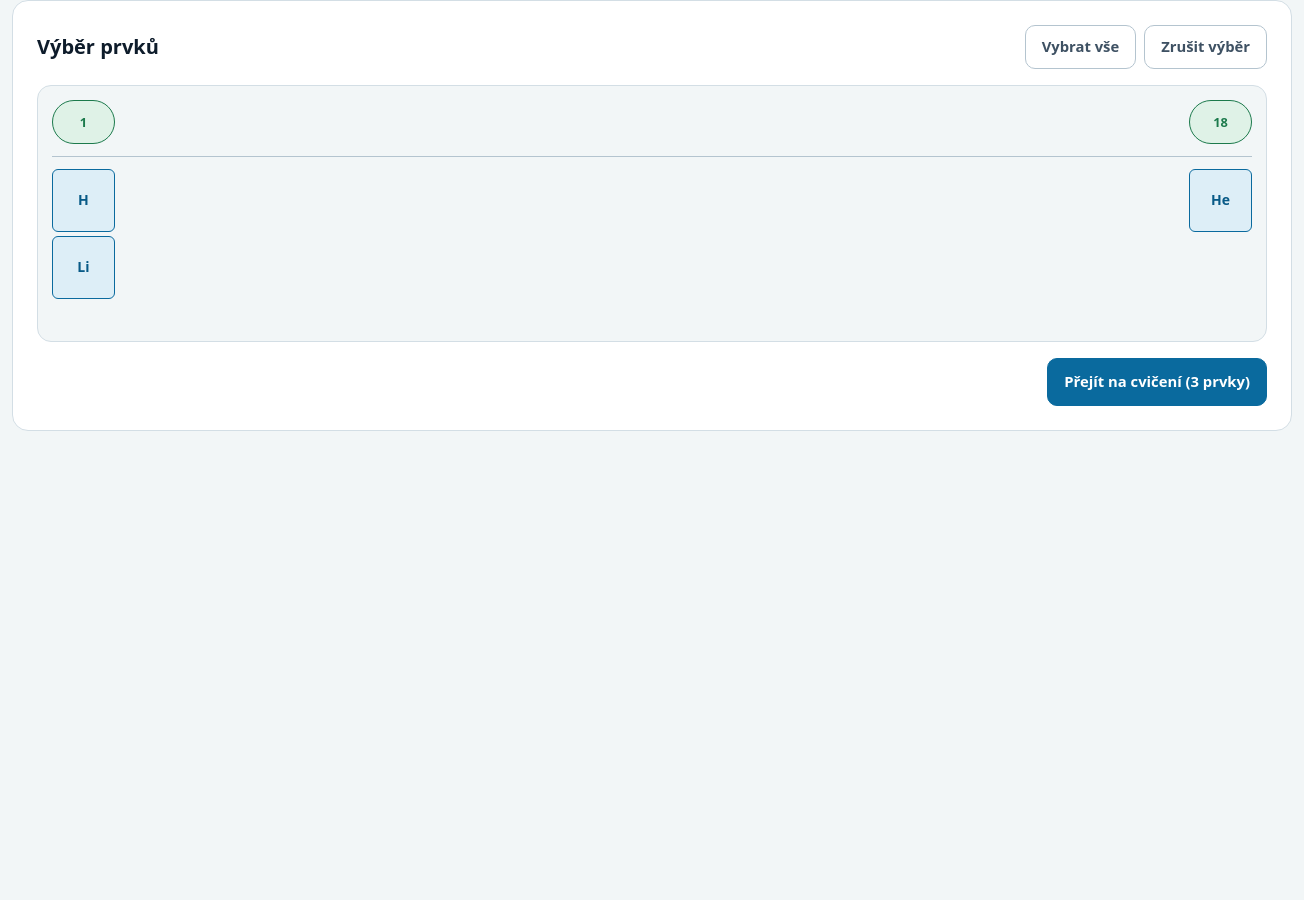
PeriodicTableNamePractice exercise › starts with a focused input, the dashboard, the Název → Značka mode, and a blind table
Click the button "Přejít na cvičení (3 prvky)" at point(1157, 382), box [1047,358,1267,406]
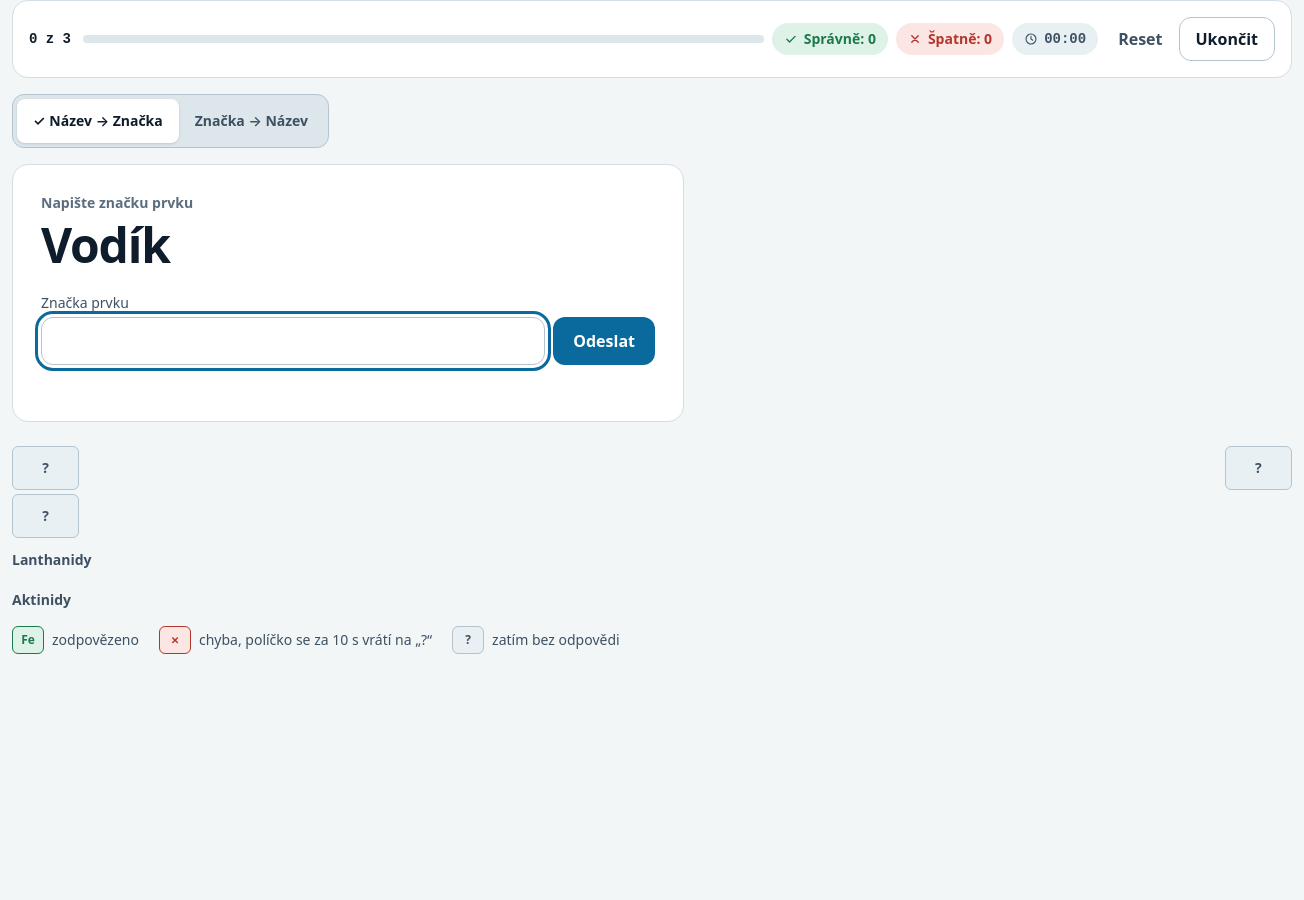
Expected: the radio button labelled "Název → Značka" is checked, [17,99,179,143]
Expected: the text "Správně: 0" is shown, [804,29,876,49]
Expected: the text "Špatně: 0" is shown, [928,29,992,49]
